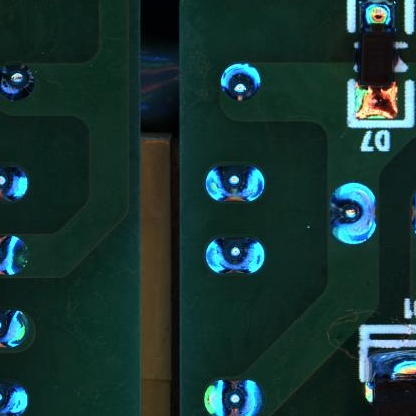spot: (328, 181, 377, 244), (203, 376, 265, 416), (205, 166, 266, 201), (205, 239, 265, 273), (220, 63, 260, 102), (1, 305, 34, 350), (1, 233, 30, 277), (2, 64, 34, 101), (1, 165, 28, 202), (1, 379, 27, 416)
